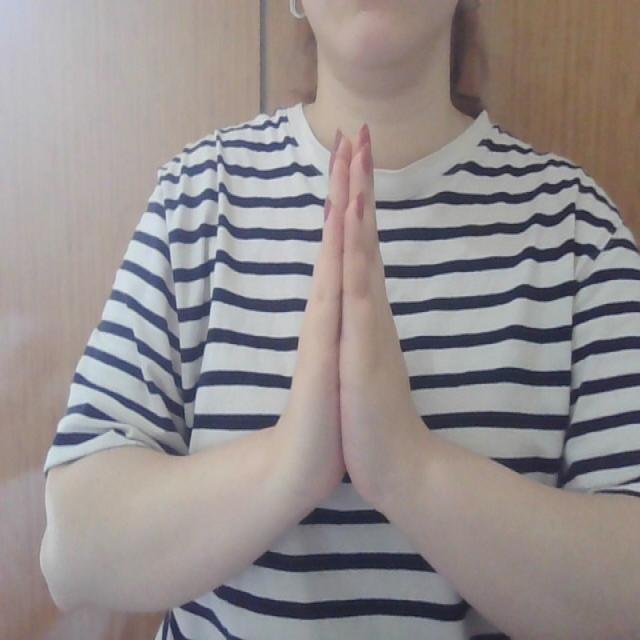Ozur-Dilemek: (278, 116, 429, 566)
